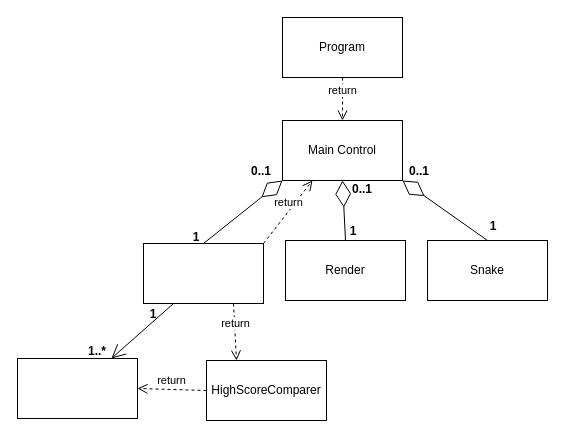
This 565x438 diagram has some shape labels left out. The box of each missing label's shape, as (x1, y1, x2, y2) in pixels:
HighScore: (16, 358, 138, 418)
HighScoreControl: (142, 242, 264, 304)
